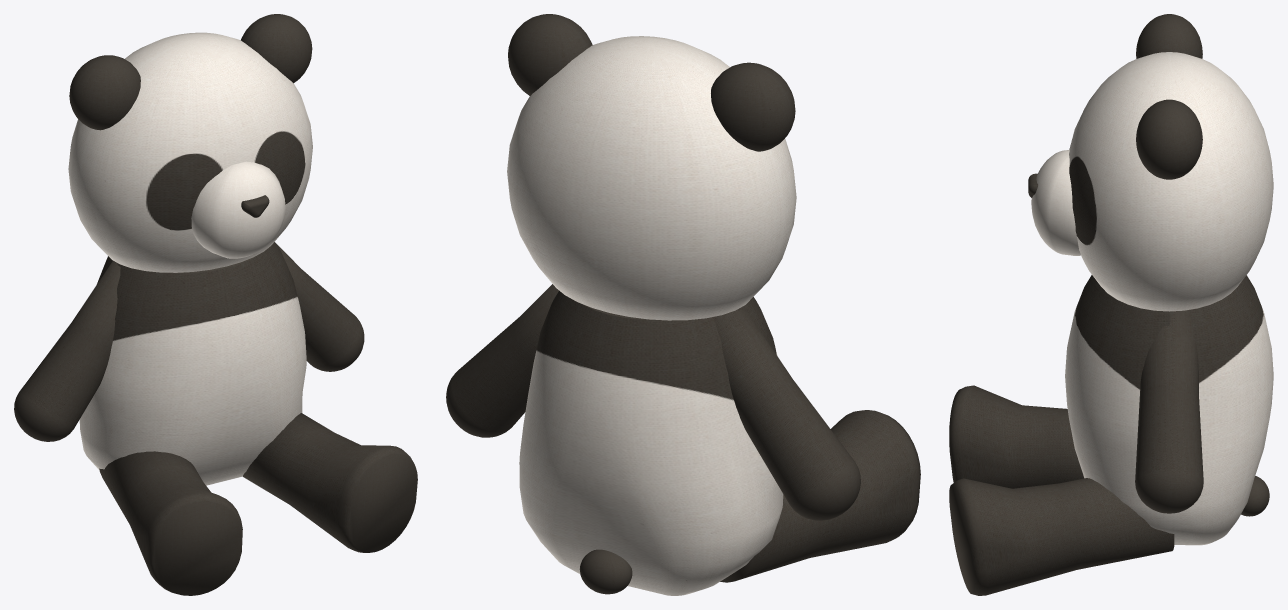
File: FabricPanda.fbx
3 renders of one model, left to right at view 1: azimuth 30°, elevation 25°; view 2: azimuth 150°, elevation 25°; view 3: azimuth 270°, elevation 25°, orthographic. The views are drawn at different scales.
Parts seen in each view (by area): view 1: head, body, leg_left, leg_right, arm_right, arm_left; view 2: head, body, arm_right, leg_right, arm_left; view 3: head, body, leg_left, arm_left, leg_right.
Boxes of the visible parts, <box> form: head: <box>68,14,312,272</box>; body: <box>79,242,306,485</box>; leg_left: <box>243,413,417,552</box>; leg_right: <box>99,451,242,595</box>; arm_right: <box>14,260,120,441</box>; arm_left: <box>276,243,364,371</box>; head: <box>507,14,796,320</box>; body: <box>519,290,783,595</box>; arm_right: <box>713,309,860,520</box>; leg_right: <box>720,410,920,582</box>; arm_left: <box>446,284,558,437</box>; head: <box>1028,14,1273,311</box>; body: <box>1065,275,1273,545</box>; leg_left: <box>949,478,1174,595</box>; arm_left: <box>1135,310,1203,513</box>; leg_right: <box>949,385,1083,488</box>.
Size of the model in its own units: 3.06 by 4 by 2.43.
